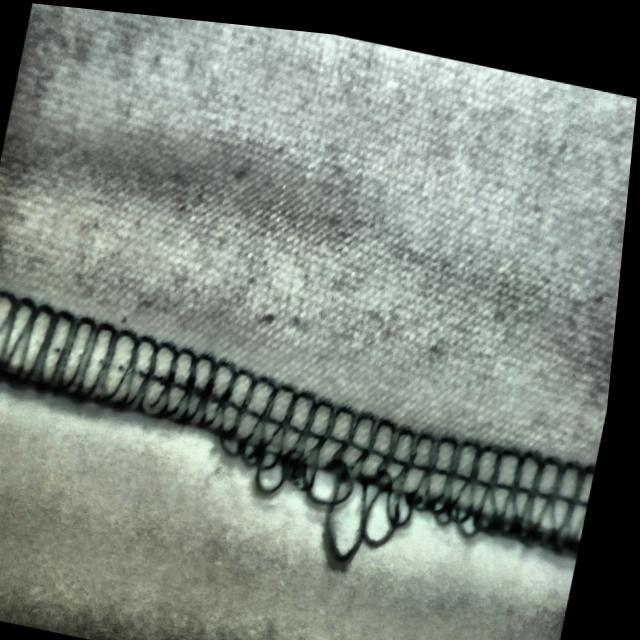Stitch: (205, 360, 519, 585)
